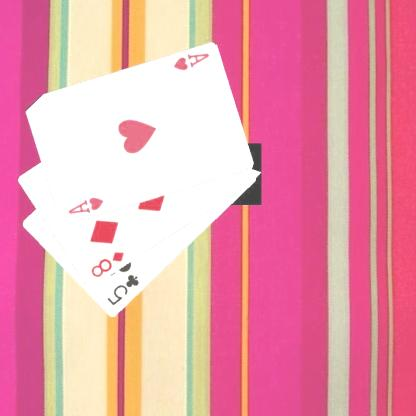5C: (104, 272, 141, 307)
8D: (88, 249, 126, 279)
AH: (66, 194, 104, 216), (171, 51, 210, 72)
